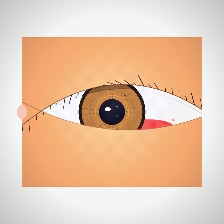hemorrhage_spot: (108, 97, 187, 160)
